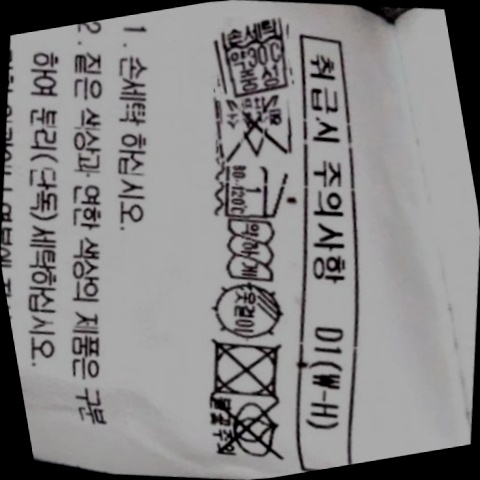DN_tumble_dry: (194, 326, 294, 411)
hand_wash: (206, 13, 302, 103)
iron_low: (211, 153, 293, 229)
line_dry_in_shade: (202, 273, 295, 348)
wring: (214, 211, 285, 291)
